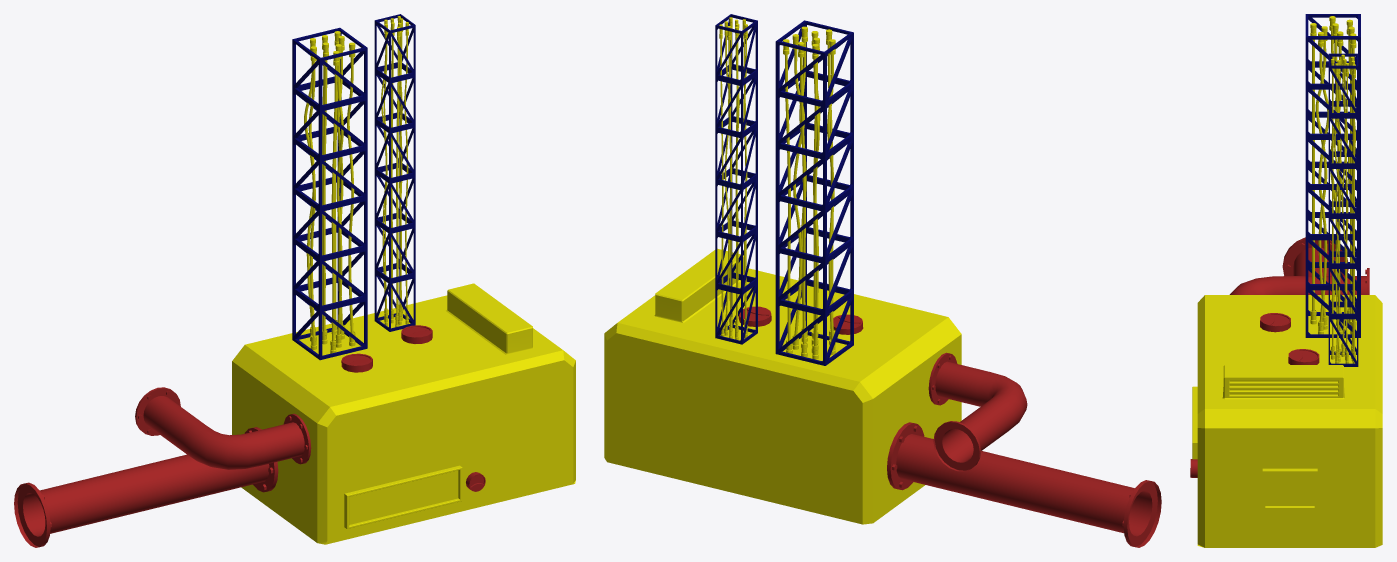
The model's file is machine3.fbx.
3 views of the same model, side by side, from view 1: azimuth 30°, elevation 25°; view 2: azimuth 150°, elevation 25°; view 3: azimuth 270°, elevation 25° (orthographic). The views are drawn at different scales.
Parts seen in each view (by area): view 1: cuerpo, cano8, cano7, bloque1, bloque9, bloque11, bloque2, bloque7, bloque10, bloque8, bloque4, bloque12 (+8 smaller); view 2: cuerpo, cano8, cano7, bloque1, bloque2, bloque10, bloque11, bloque9, bloque7, bloque8, bloque3, bloque5 (+8 smaller); view 3: cuerpo, cano7, bloque1, cano8, bloque10, bloque9, bloque2, bloque11, bloque7, cables18, bloque8, cables7 (+20 smaller).
Part boxes in pixels (x1,y1,x2,y2): cuerpo: (232, 283, 575, 544); cano8: (14, 427, 278, 547); cano7: (135, 387, 311, 469); bloque1: (292, 27, 367, 109); bloque9: (292, 230, 367, 309); bloque11: (292, 180, 367, 259); bloque2: (292, 130, 367, 209); bloque7: (292, 280, 367, 360); bloque10: (292, 80, 367, 159); bloque8: (374, 14, 415, 81); bloque4: (374, 215, 415, 281); bloque12: (374, 165, 415, 231); cuerpo: (604, 248, 961, 524); cano8: (887, 422, 1161, 547); cano7: (928, 352, 1027, 471); bloque1: (775, 20, 853, 105); bloque2: (775, 126, 853, 209); bloque10: (775, 74, 853, 157); bloque11: (775, 179, 853, 261); bloque9: (775, 230, 853, 313); bloque7: (775, 282, 853, 365); bloque8: (715, 14, 757, 83); bloque3: (715, 67, 757, 135); bloque5: (715, 119, 757, 188); cuerpo: (1192, 295, 1382, 547); cano7: (1229, 268, 1369, 294); bloque1: (1305, 14, 1360, 87); cano8: (1282, 237, 1348, 275); bloque10: (1305, 65, 1360, 137); bloque9: (1305, 215, 1360, 287); bloque2: (1305, 115, 1360, 187); bloque11: (1305, 165, 1360, 237); bloque7: (1305, 265, 1360, 337); cables18: (1318, 32, 1328, 334); bloque8: (1328, 53, 1358, 116); cables7: (1310, 23, 1316, 324).
Bounding box in the file's own units: 370 × 310 × 124.
